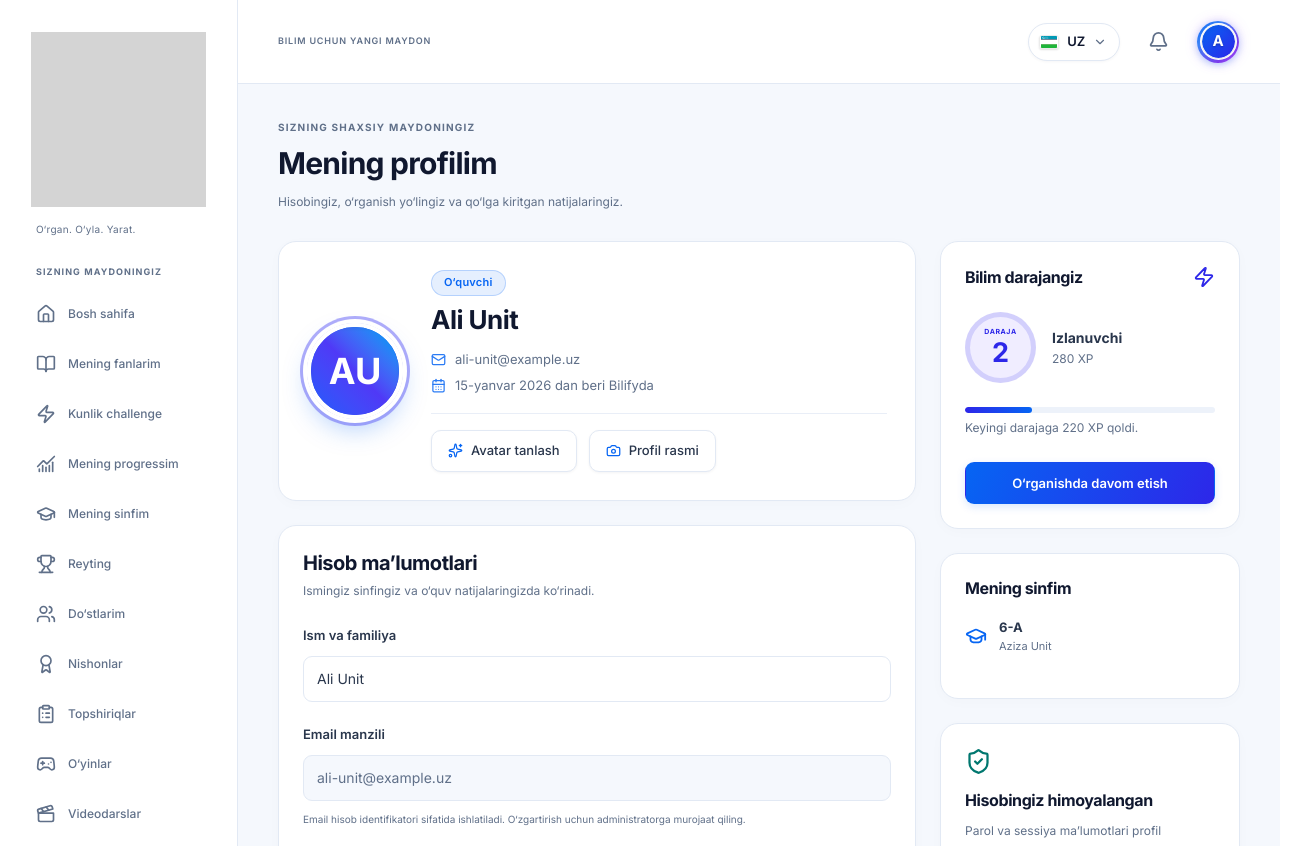
Test case: profile page › rejects a blank name before making a PATCH request
Clear the field labelled "Ism va familiya" at {"x": 597, "y": 679}, box [303,656,891,702]
(page scrolled)
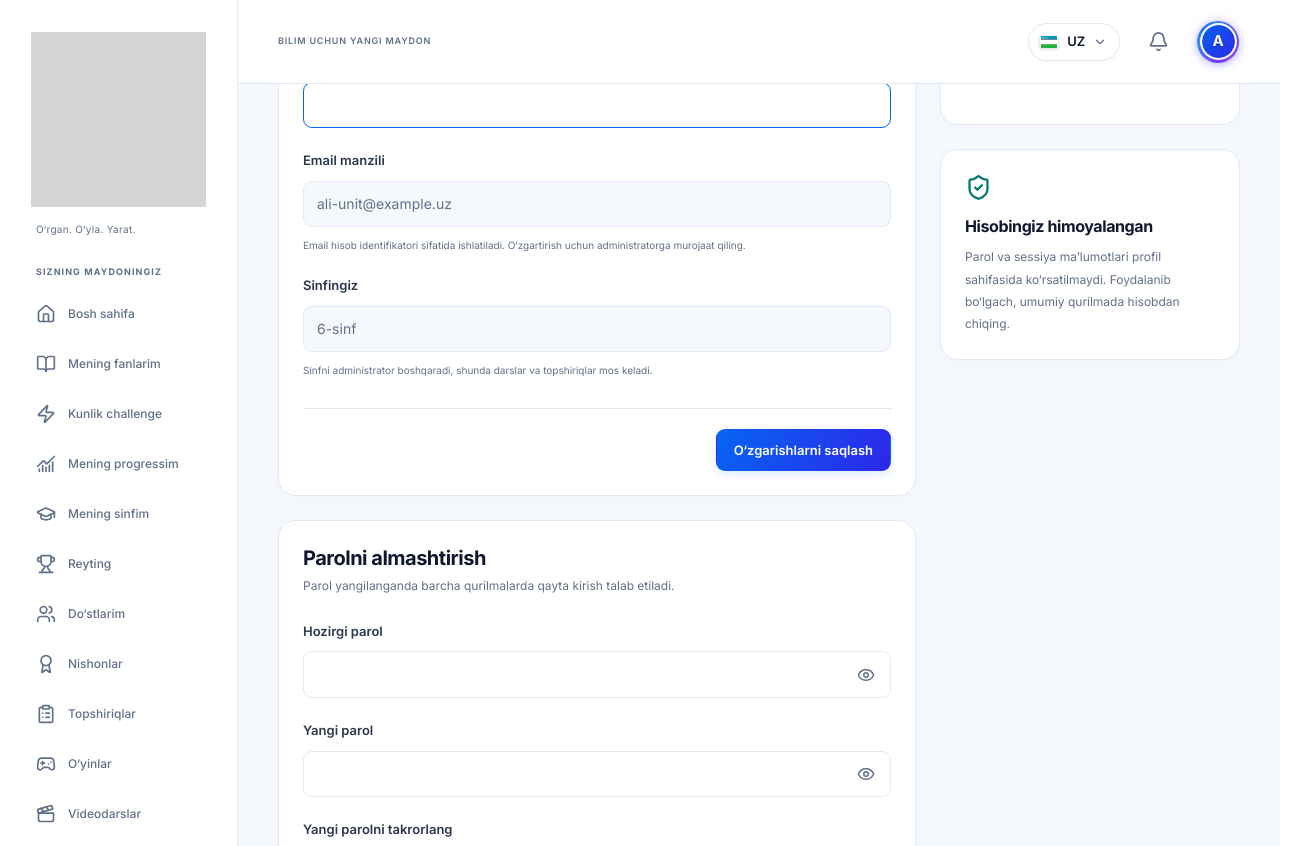
Click the button "O‘zgarishlarni saqlash".
click(803, 450)  # box [716,429,891,471]
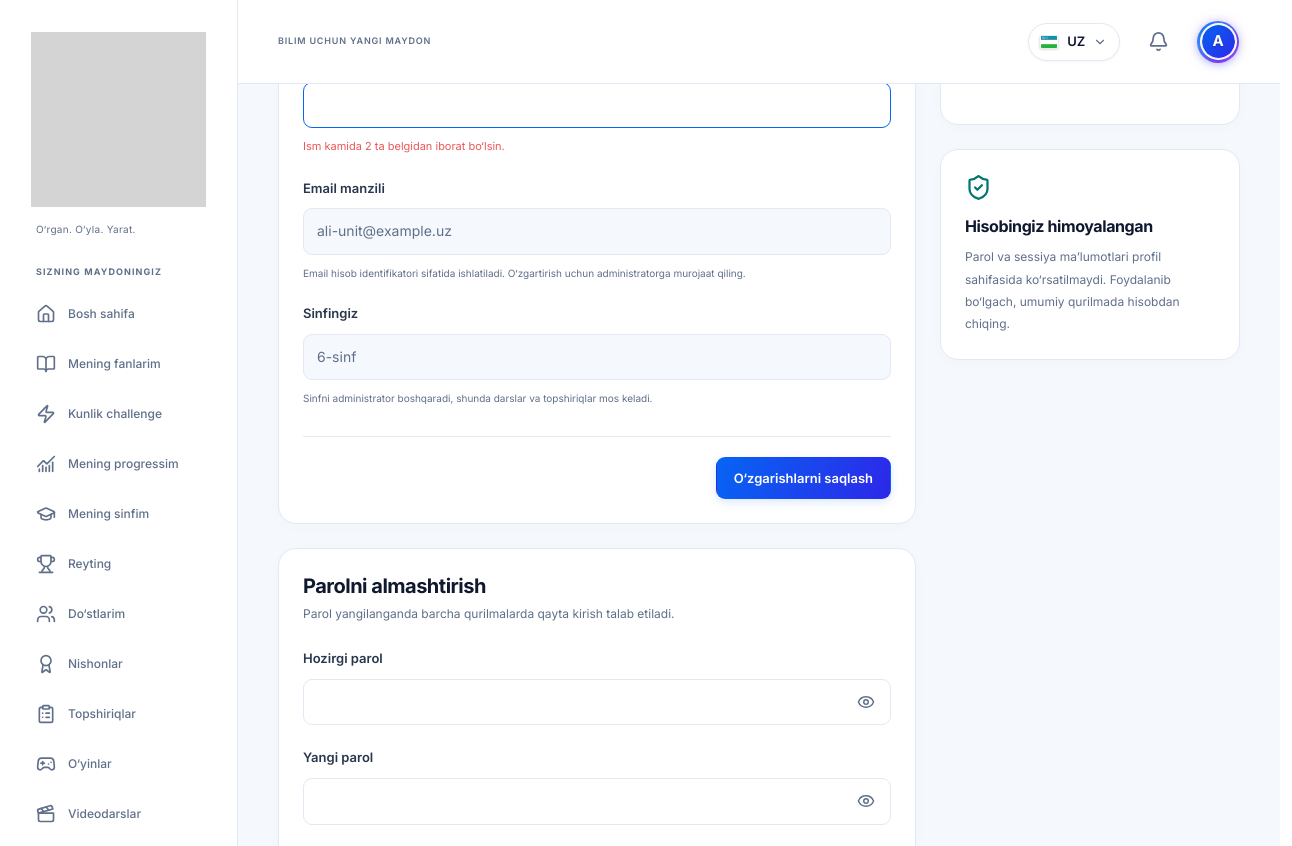
Result: the message shows "Ism kamida 2 ta belgidan" at [303,139,505,153]
